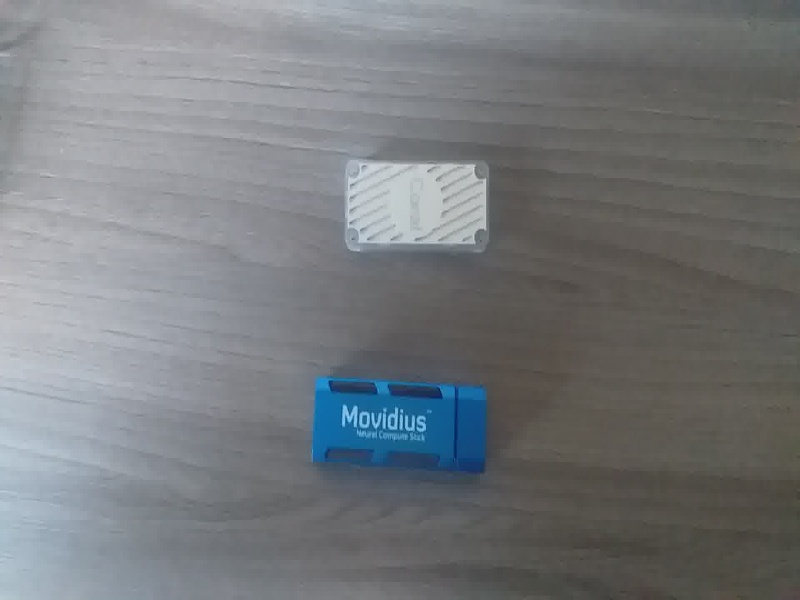coral: (336, 157, 502, 266)
movidius: (301, 366, 501, 481)
